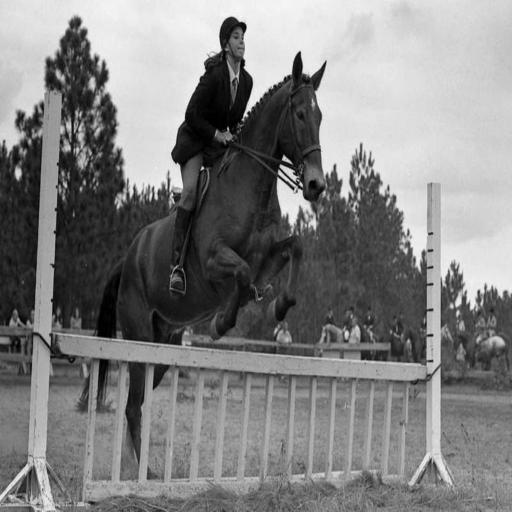horse: (80, 48, 329, 478)
